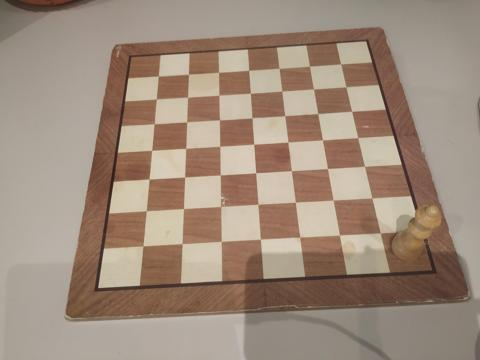xcorner: (144, 176, 155, 187), (216, 204, 227, 215), (246, 88, 257, 99), (278, 86, 289, 97), (281, 111, 292, 122), (284, 138, 295, 149), (296, 235, 307, 246), (306, 61, 317, 72), (310, 84, 321, 95), (319, 136, 330, 147), (336, 233, 347, 244), (337, 59, 348, 70), (361, 163, 372, 174), (153, 72, 164, 82), (151, 95, 162, 105), (149, 120, 160, 130), (141, 209, 152, 219), (138, 244, 149, 254), (180, 174, 190, 185), (179, 206, 189, 217), (177, 242, 188, 252), (214, 68, 225, 78), (215, 143, 226, 153), (216, 172, 226, 183), (245, 65, 255, 76), (248, 113, 258, 124), (250, 140, 260, 151), (254, 202, 264, 213), (256, 238, 267, 248), (276, 63, 286, 74), (315, 109, 325, 120), (324, 166, 335, 176), (343, 82, 353, 93), (348, 107, 359, 117), (354, 134, 365, 144), (368, 196, 379, 206), (376, 231, 387, 241), (147, 147, 157, 157), (184, 70, 194, 80), (183, 93, 193, 103), (182, 118, 192, 128), (181, 145, 191, 155), (215, 91, 225, 101), (215, 116, 225, 126), (217, 240, 227, 250), (252, 170, 262, 180), (288, 168, 298, 178), (292, 200, 302, 210), (330, 198, 340, 208)
